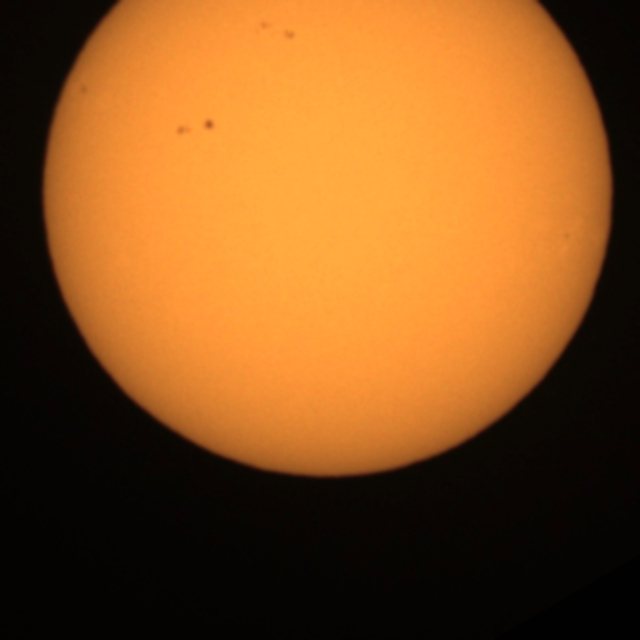sunspot: (256, 18, 299, 45), (173, 115, 218, 139), (200, 115, 218, 135), (76, 81, 91, 100)
